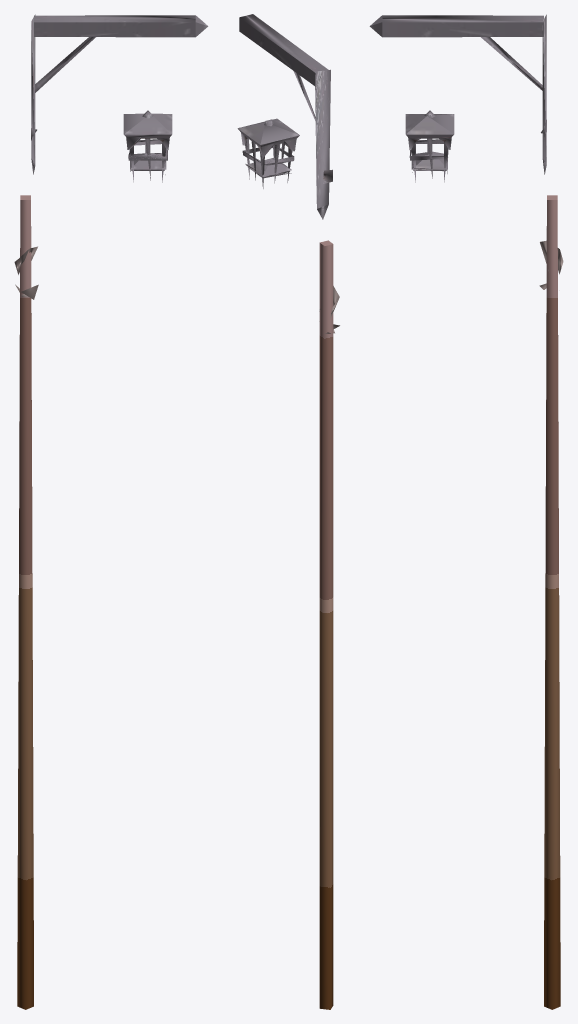
Rendered from QuayLamp.low.gltf.
3 renders of one model, left to right at view 1: azimuth 90°, elevation 25°; view 2: azimuth 210°, elevation 25°; view 3: azimuth 270°, elevation 25°, orthographic. The views are drawn at different scales.
Visible parts, largest first — view 1: Environment_Dock_Pole, Lantern_Wall; view 2: Environment_Dock_Pole, Lantern_Wall; view 3: Environment_Dock_Pole, Lantern_Wall.
Boxes of the visible parts, box(x1,y1,x2,y2) form: Environment_Dock_Pole: box(14, 195, 38, 1009); Lantern_Wall: box(31, 14, 208, 182); Environment_Dock_Pole: box(319, 240, 339, 1009); Lantern_Wall: box(237, 14, 332, 219); Environment_Dock_Pole: box(539, 195, 563, 1009); Lantern_Wall: box(369, 14, 546, 182).
Bounding box in the file's own units: 0.411 × 9.21 × 1.64.
2 materials, 2 textured.
